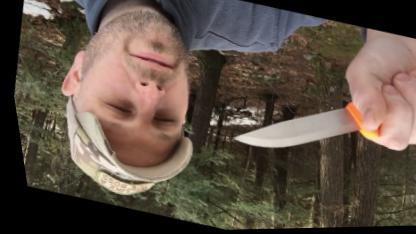knife: (208, 50, 415, 198)
